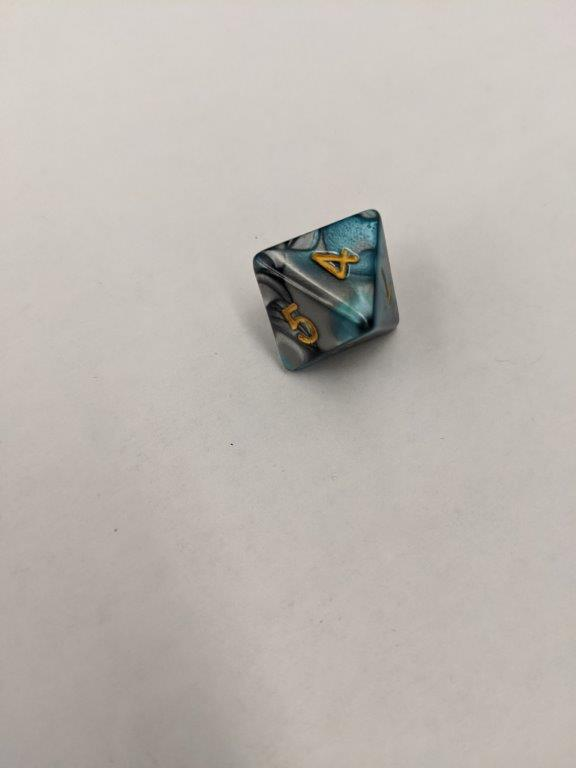d8-4: (251, 209, 401, 368)
